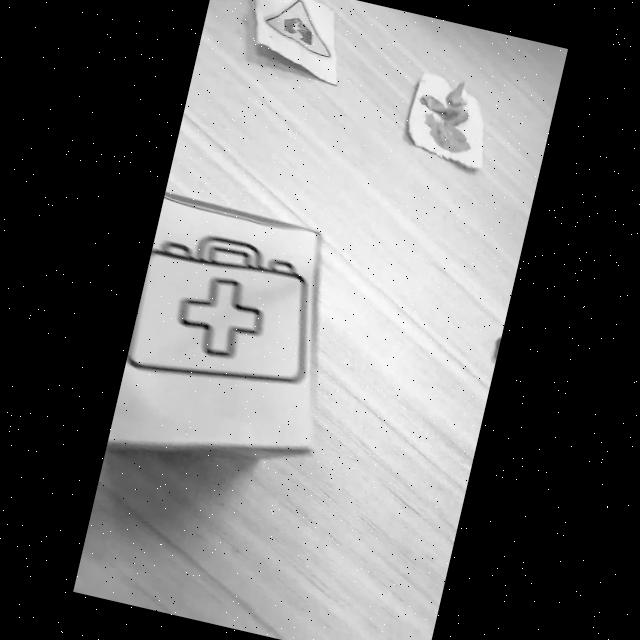Medkit: (128, 235, 308, 384)
